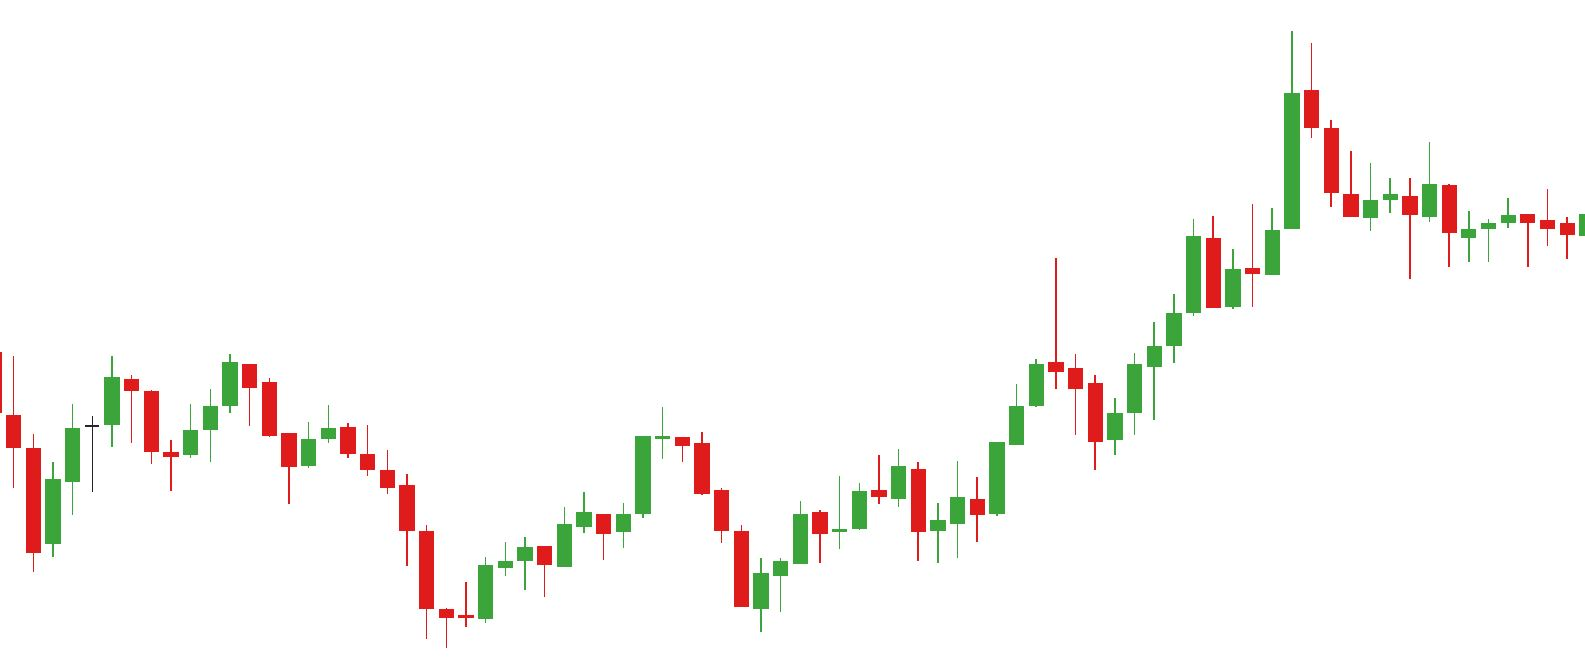buy: (535, 496, 770, 631), (830, 479, 944, 571)
sell: (103, 355, 260, 444)
